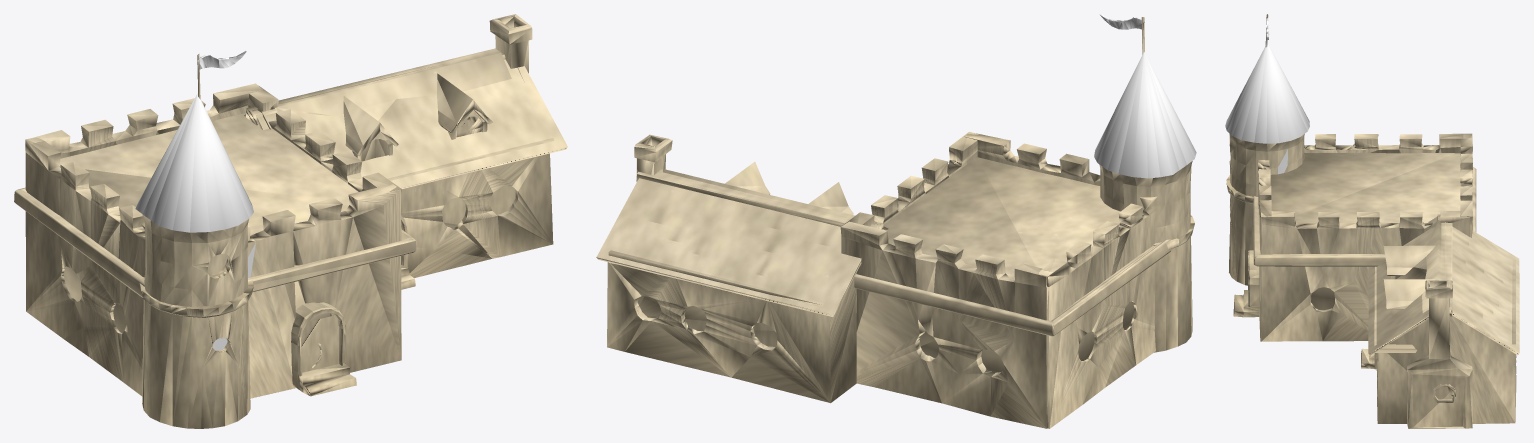
3 views of the same model, side by side, from view 1: azimuth 30°, elevation 25°; view 2: azimuth 150°, elevation 25°; view 3: azimuth 270°, elevation 25° (orthographic). The views are drawn at different scales.
Parts seen in each view (by area): view 1: castle; view 2: castle; view 3: castle.
Part boxes in pixels (x1,y1,x2,y2): castle: [14, 14, 567, 428]; castle: [596, 14, 1196, 428]; castle: [1225, 14, 1519, 428].
Bounding box in the file's own units: 2.9 × 1.99 × 2.06.
2 materials, 1 textured.
